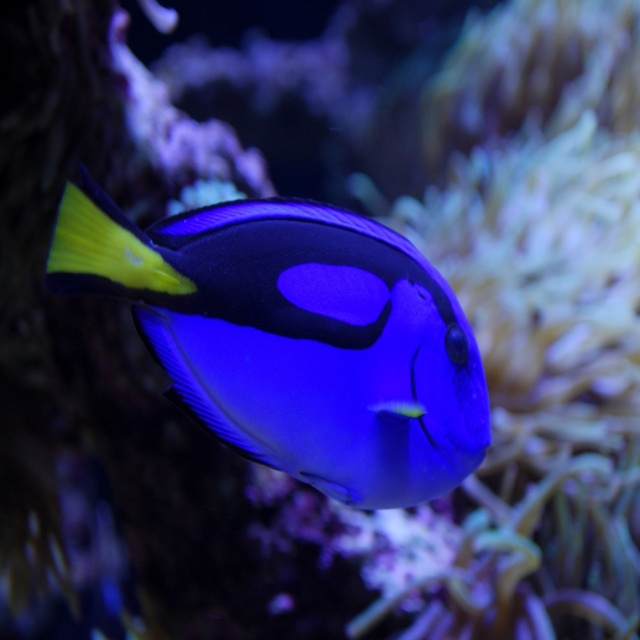Fish: (44, 164, 492, 509)
